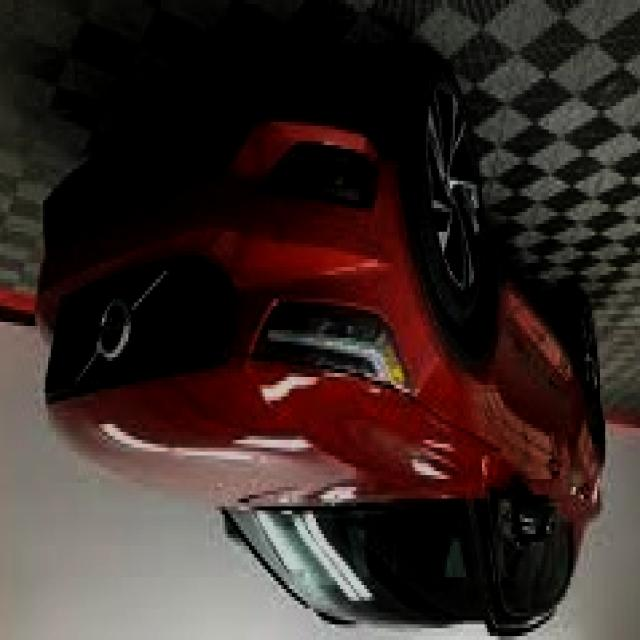maroon: (35, 94, 599, 640)
